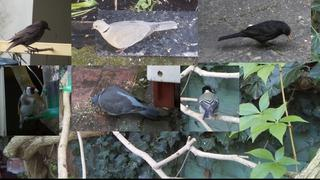blackbird: (218, 20, 291, 49)
collared dove: (91, 20, 178, 54)
goldfinch: (18, 86, 39, 129)
great tit: (198, 86, 219, 121)
starling: (6, 20, 51, 54)
wood pigeon: (91, 86, 160, 120)
